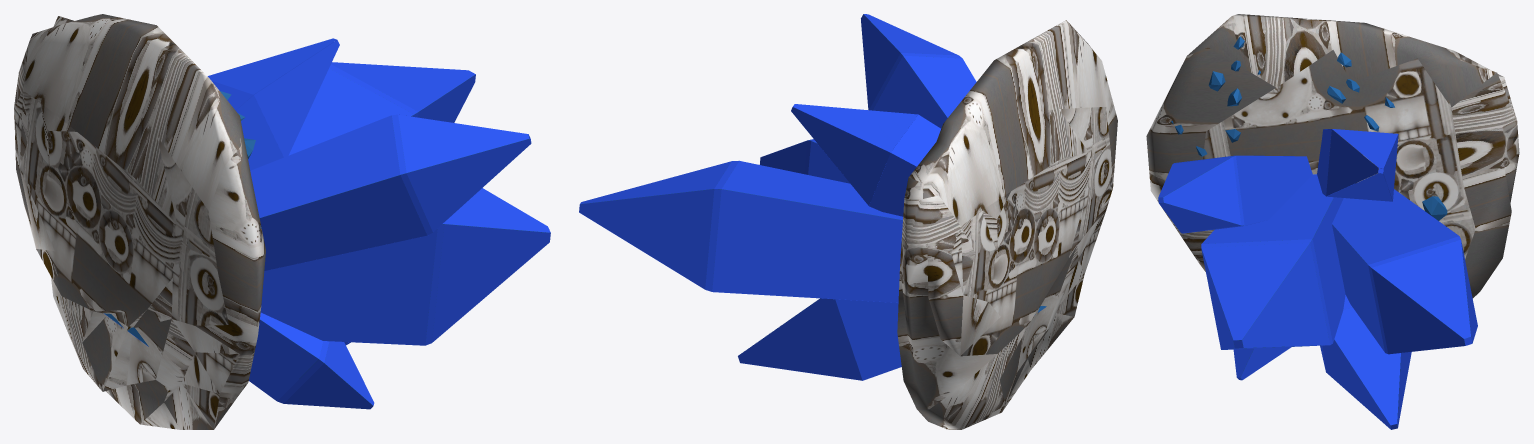
The model's file is Diamond.fbx.
3 views of the same model, side by side, from view 1: azimuth 30°, elevation 25°; view 2: azimuth 150°, elevation 25°; view 3: azimuth 270°, elevation 25° (orthographic). The views are drawn at different scales.
Parts seen in each view (by area): view 1: Diamond; view 2: Diamond; view 3: Diamond.
Boxes of the visible parts, x1,y1,x2,y2 form: Diamond: (14, 14, 550, 429); Diamond: (579, 14, 1117, 429); Diamond: (1146, 14, 1519, 429).
Bounding box in the file's own units: 1445 × 1220 × 1290.
